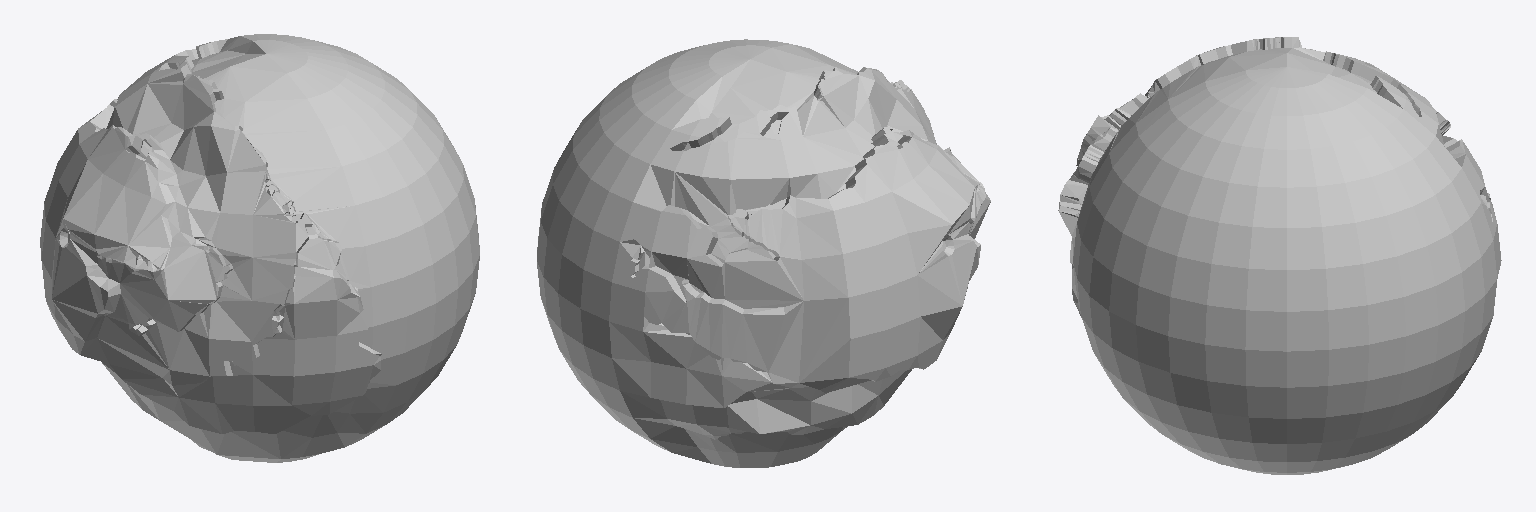
The model's file is background.obj.
3 renders of one model, left to right at view 1: azimuth 30°, elevation 25°; view 2: azimuth 150°, elevation 25°; view 3: azimuth 270°, elevation 25°, orthographic.
Parts seen in each view (by area): view 1: Object001; view 2: Object001; view 3: Object001.
Boxes of the visible parts, box(x1,y1,x2,y2) form: Object001: box(40, 34, 479, 462); Object001: box(537, 39, 990, 467); Object001: box(1058, 37, 1501, 474).
Bounding box in the file's own units: 21.51 × 20.18 × 20.68.